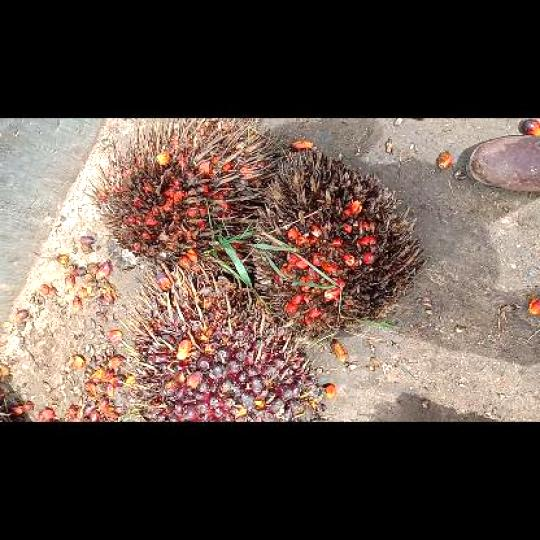masak: (116, 267, 328, 421)
terlalu masak: (250, 144, 430, 347), (84, 118, 272, 274)
